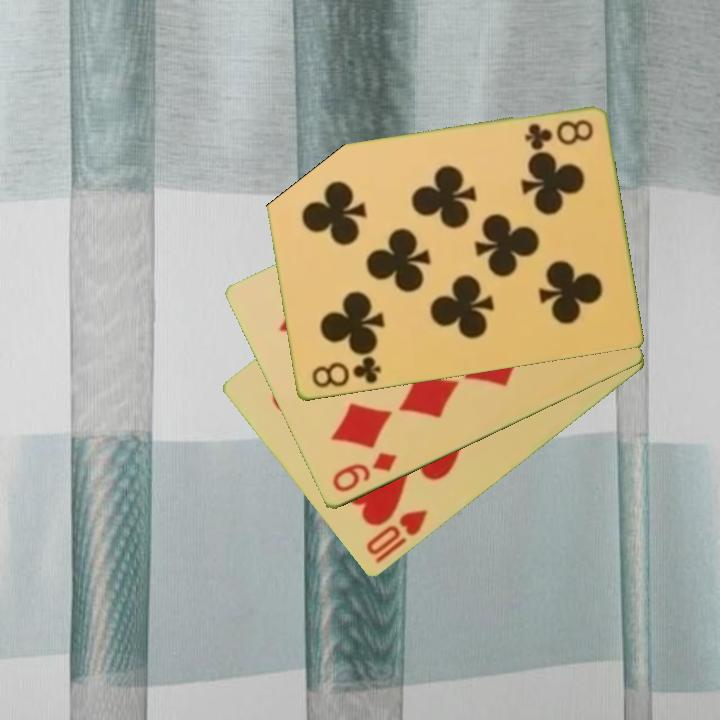10h: (362, 506, 431, 567)
8c: (308, 353, 384, 391), (521, 116, 596, 153)
9d: (328, 449, 400, 496)
